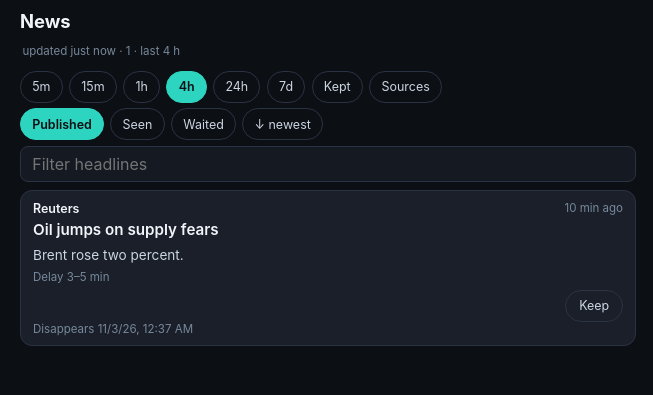
Test: NewsScreen › keeps the list on screen when a refresh fails
Expected: the text "Oil jumps on supply fears" is shown, x1=33 y1=220 x2=219 y2=239
Click the button "updated just now · 1 · last 4 h". click: (101, 51)
box: x1=20 y1=37 x2=182 y2=65
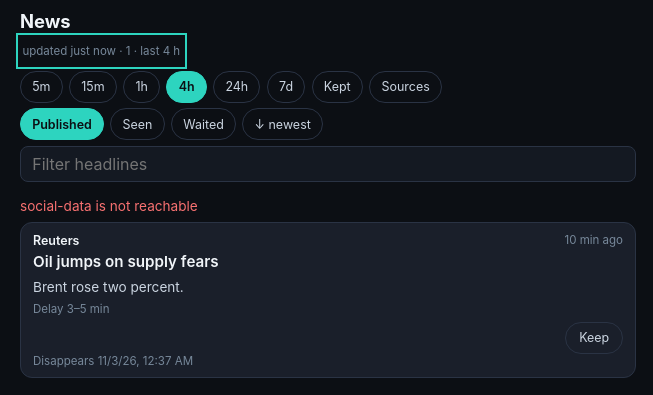
Expected: the text "Oil jumps on supply fears" is shown, x1=33 y1=252 x2=219 y2=271
Expected: the text "social-data is not reachable" is shown, x1=20 y1=198 x2=198 y2=214
